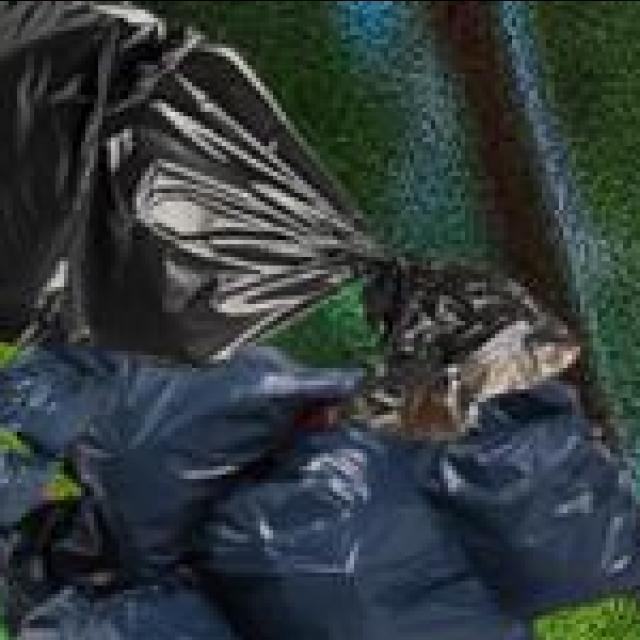Trashbag: (4, 20, 472, 332), (12, 336, 291, 506), (408, 364, 614, 572), (210, 453, 468, 614)
